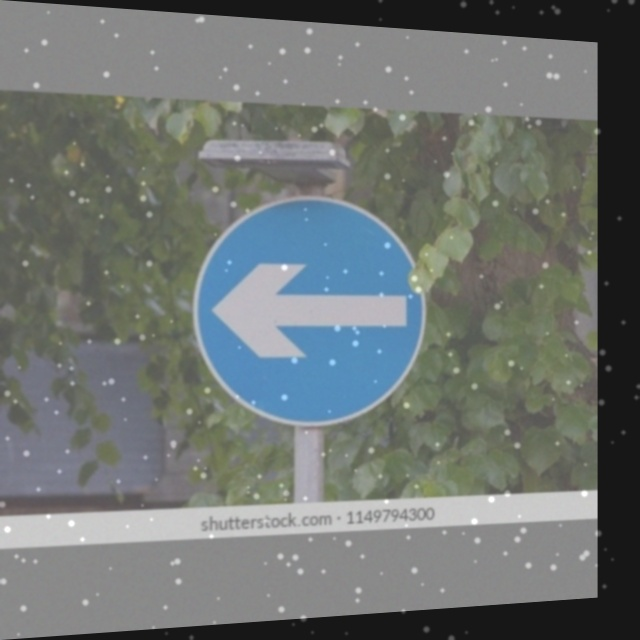Compulsory_Turn_Left: (197, 188, 424, 430)
